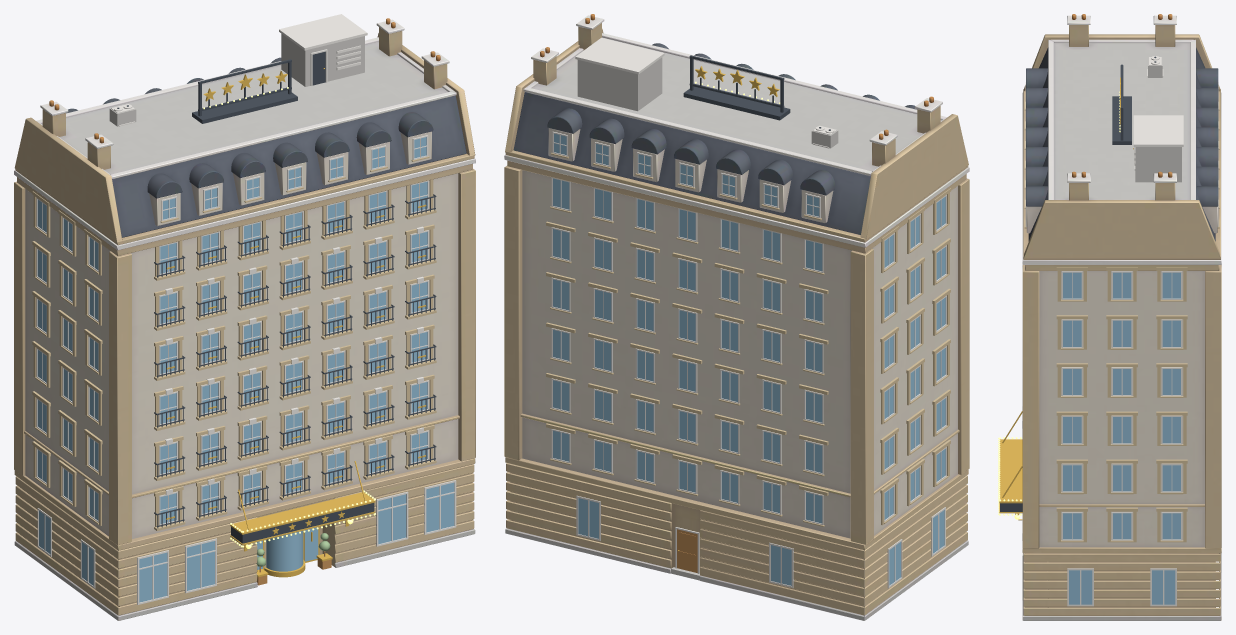
The model's file is hotel-grab3d.glb.
3 renders of one model, left to right at view 1: azimuth 30°, elevation 25°; view 2: azimuth 150°, elevation 25°; view 3: azimuth 270°, elevation 25°, orthographic. The views are drawn at different scales.
Parts seen in each view (by area): view 1: hotel_body, hotel_detail_windows, hotel_detail_parts, hotel_detail_surrounds; view 2: hotel_body, hotel_detail_windows, hotel_detail_surrounds, hotel_detail_parts; view 3: hotel_body, hotel_detail_windows, hotel_detail_surrounds, hotel_detail_parts, hotel_detail_bulbs.
Boxes of the visible parts, x1,y1,x2,y2 form: hotel_body: [14, 18, 475, 620]; hotel_detail_windows: [35, 135, 456, 604]; hotel_detail_parts: [109, 14, 436, 585]; hotel_detail_surrounds: [32, 179, 434, 526]; hotel_body: [504, 14, 969, 620]; hotel_detail_windows: [550, 131, 948, 588]; hotel_detail_surrounds: [546, 188, 950, 525]; hotel_detail_parts: [575, 37, 838, 148]; hotel_body: [1022, 14, 1221, 620]; hotel_detail_windows: [1022, 82, 1221, 606]; hotel_detail_surrounds: [1056, 267, 1187, 542]; hotel_detail_parts: [999, 56, 1183, 520]; hotel_detail_bulbs: [998, 91, 1120, 519].
Size of the model in its own units: 24 by 30.12 by 13.47.
10 materials, 1 textured.
